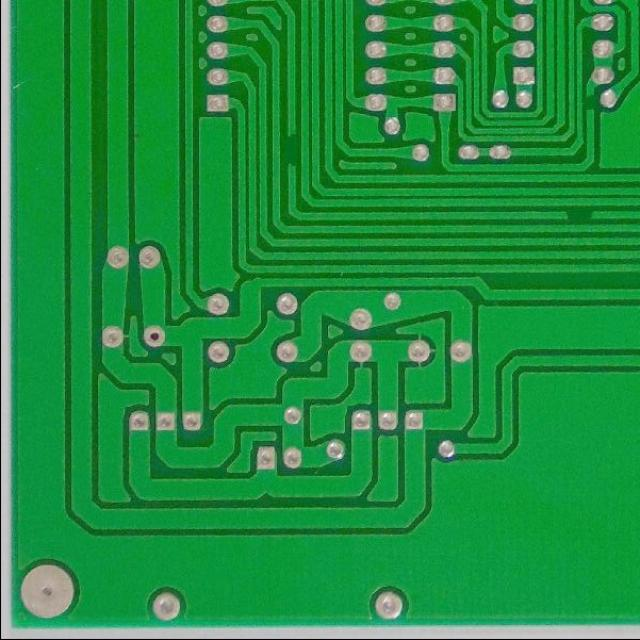open_circuit: (282, 131, 298, 170), (558, 208, 594, 224), (580, 92, 598, 116)
